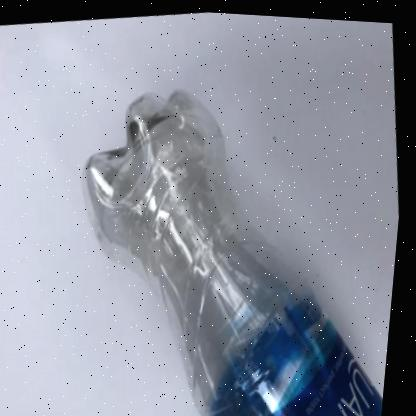Plastic: (88, 87, 390, 416)
